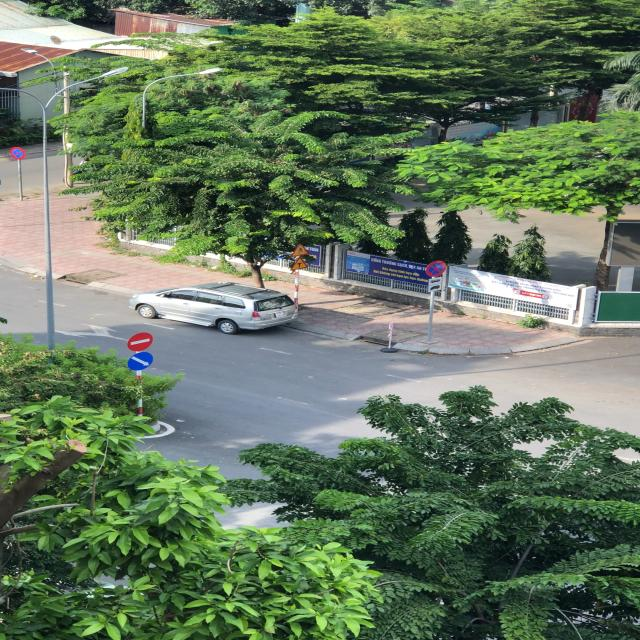Bien bao cam di nguoc chieu: (127, 331, 158, 353)
Bien bao duong giao nhau: (287, 257, 311, 271)
Bien bao duong nguoi di bo cat ngang: (290, 242, 312, 258)
Bien bao huong phai di vong chuong ngai vat: (127, 352, 156, 372)
